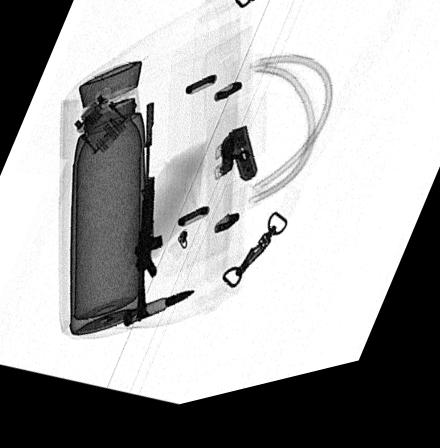Bullet: (123, 298, 196, 332)
Gun: (133, 108, 163, 326)
